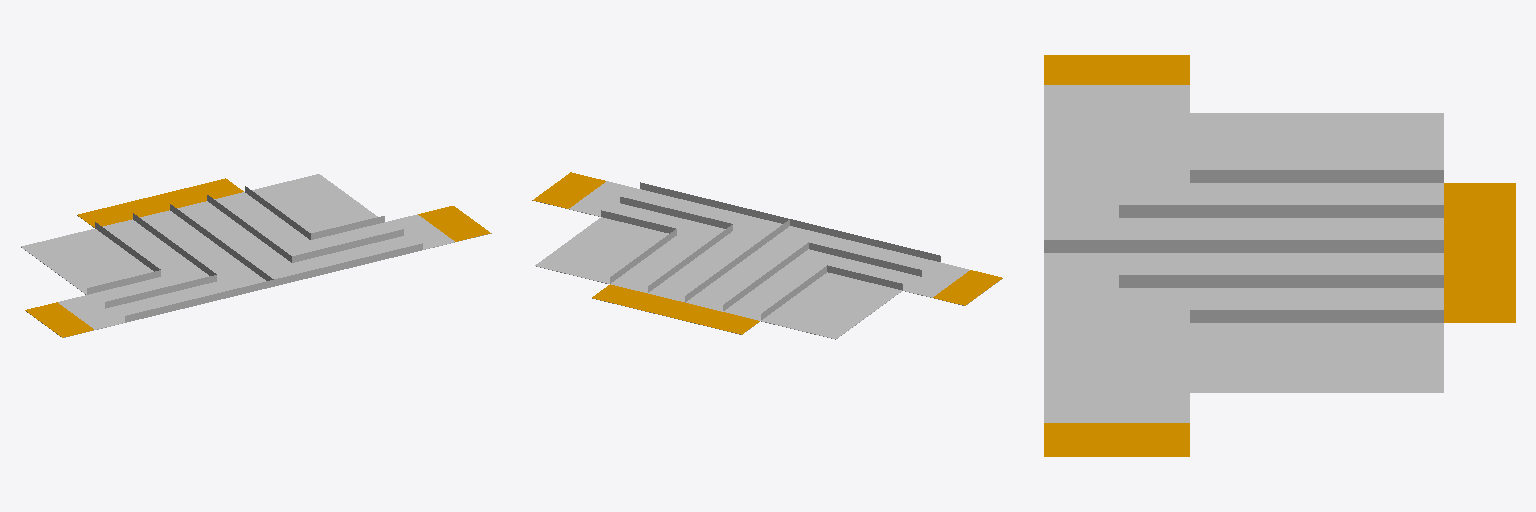
URDF robot description (cam_bot):
<?xml version="1.0" encoding="utf-8"?>
<!-- =================================================================================== -->
<!-- |    This document was autogenerated by xacro from main.xacro                     | -->
<!-- |    EDITING THIS FILE BY HAND IS NOT RECOMMENDED                                 | -->
<!-- =================================================================================== -->
<robot name="cam_bot">
  <!-- <xacro:arg name="gpu" default="false"/> -->
  <!-- <xacro:property name="gpu" value="$(arg gpu)" /> -->
  <!-- <link name="world" />


<joint name="world_base" type="fixed">
    <parent link="world" />
    <child link="base_link"/>
    <origin xyz="0.0 0.0 0.0" rpy="0.0 0.0 0.0" />
</joint> -->
  <link name="base_link">
    <inertial>
      <mass value="1.584994"/>
      <origin xyz="0.0 0.0 0.0"/>
      <inertia ixx="0.01042" ixy="0.001177" ixz="-0.0008871" iyy="0.01045" iyz="0.0002226" izz="0.01817"/>
    </inertial>
    <visual>
      <geometry>
        <mesh filename="package://rover_sim/arena/arena/arena_one.dae"/>
      </geometry>
      <!-- <material name="RED"> -->
      <!-- <color rgba="1.0 0.0 0.0 1.0"/> -->
      <!-- </material> -->
    </visual>
    <collision>
      <geometry>
        <mesh filename="package://rover_sim/arena/arena/arena_one.dae"/>
      </geometry>
    </collision>
  </link>
  <joint name="camera_to_base" type="fixed">
    <parent link="base_link"/>
    <child link="camera_link"/>
    <origin rpy="3.142 0.0 0.0" xyz="0.0 0.0 3.0"/>
    <axis xyz="0 0 1"/>
    <limit effort="150.0" lower="-3.142" upper="3.142" velocity="1.5"/>
  </joint>
  <link name="camera_link">
</link>
  <gazebo reference="camera_link">
    <sensor name="camera" type="camera">
      <update_rate>30.0</update_rate>
      <camera name="head">
        <horizontal_fov>1.3962634</horizontal_fov>
        <image>
          <width>640</width>
          <height>480</height>
          <format>R8G8B8</format>
        </image>
        <clip>
          <near>0.02</near>
          <far>300</far>
        </clip>
        <noise>
          <type>gaussian</type>
          <!-- Noise is sampled independently per pixel on each frame.
               That pixel's noise value is added to each of its color
               channels, which at that point lie in the range [0,1]. -->
          <mean>0.0</mean>
          <stddev>0.007</stddev>
        </noise>
      </camera>
      <plugin filename="libgazebo_ros_camera.so" name="camera_controller">
        <alwaysOn>true</alwaysOn>
        <updateRate>0.0</updateRate>
        <cameraName>usb_cam</cameraName>
        <imageTopicName>image_raw</imageTopicName>
        <cameraInfoTopicName>/camera/camera_info</cameraInfoTopicName>
        <frameName>camera_link</frameName>
        <hackBaseline>0.07</hackBaseline>
        <distortionK1>0.0</distortionK1>
        <distortionK2>0.0</distortionK2>
        <distortionK3>0.0</distortionK3>
        <distortionT1>0.0</distortionT1>
        <distortionT2>0.0</distortionT2>
      </plugin>
    </sensor>
  </gazebo>
</robot>

--- Render facts (derived) ---
Views: 3 orthographic renders of the robot side by side, from view 1: azimuth 30°, elevation 25°; view 2: azimuth 150°, elevation 25°; view 3: azimuth 270°, elevation 25°.
Robot: cam_bot — 2 links, 1 joints (1 fixed); root link base_link; default pose: every joint at zero.
Visible links, largest first — view 1: base_link; view 2: base_link; view 3: base_link.
Boxes of the visible links, bbox=[...] form: base_link: bbox=[21, 174, 491, 337]; base_link: bbox=[532, 172, 1002, 339]; base_link: bbox=[1044, 55, 1515, 456].
Size in the robot's own frame: 7.25 by 3.59 by 0.1145 metres.
Meshes: 1 distinct files referenced, 1 mesh visuals loaded (1 Collada DAE).